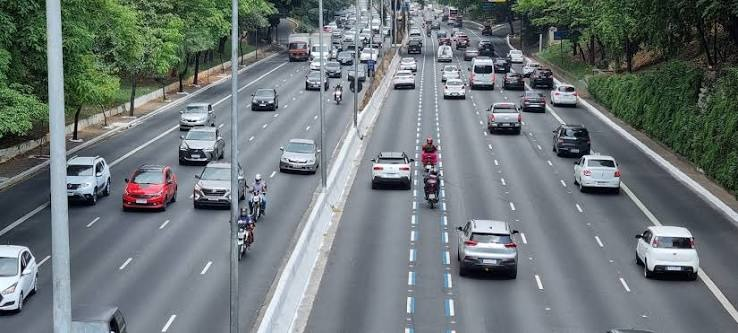car: (1, 18, 734, 331), (20, 25, 526, 204), (116, 12, 633, 176), (278, 16, 636, 158), (633, 226, 703, 281), (453, 224, 524, 278), (634, 226, 703, 281), (50, 156, 113, 204), (120, 165, 181, 212), (191, 165, 240, 210), (572, 158, 624, 194), (175, 127, 223, 164), (369, 155, 414, 189), (276, 138, 319, 173), (242, 175, 269, 218)
